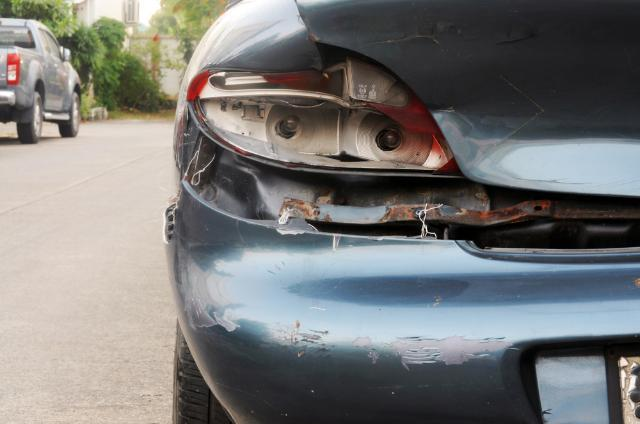dent: (213, 165, 265, 219)
dislocated part: (166, 115, 640, 424)
lamp broken: (188, 43, 455, 173)
scratch: (181, 300, 516, 373)
